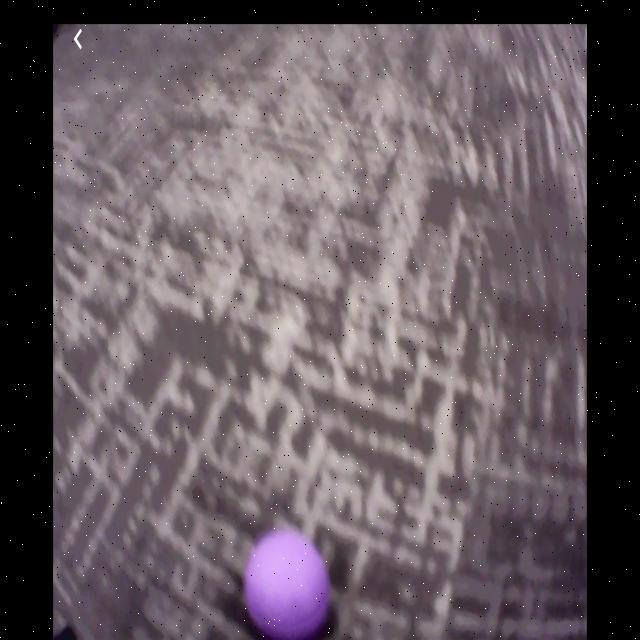ball: (244, 524, 333, 639)
